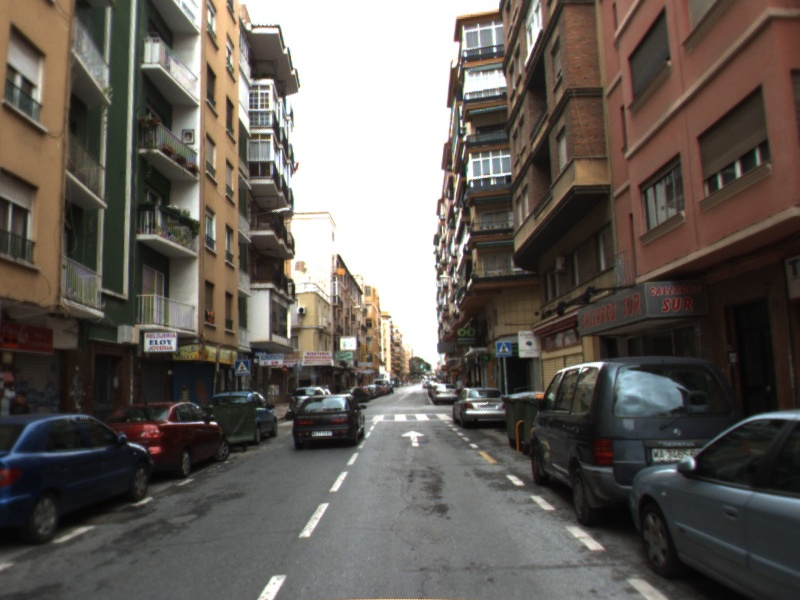STRAIGHT: (399, 429, 427, 448)
